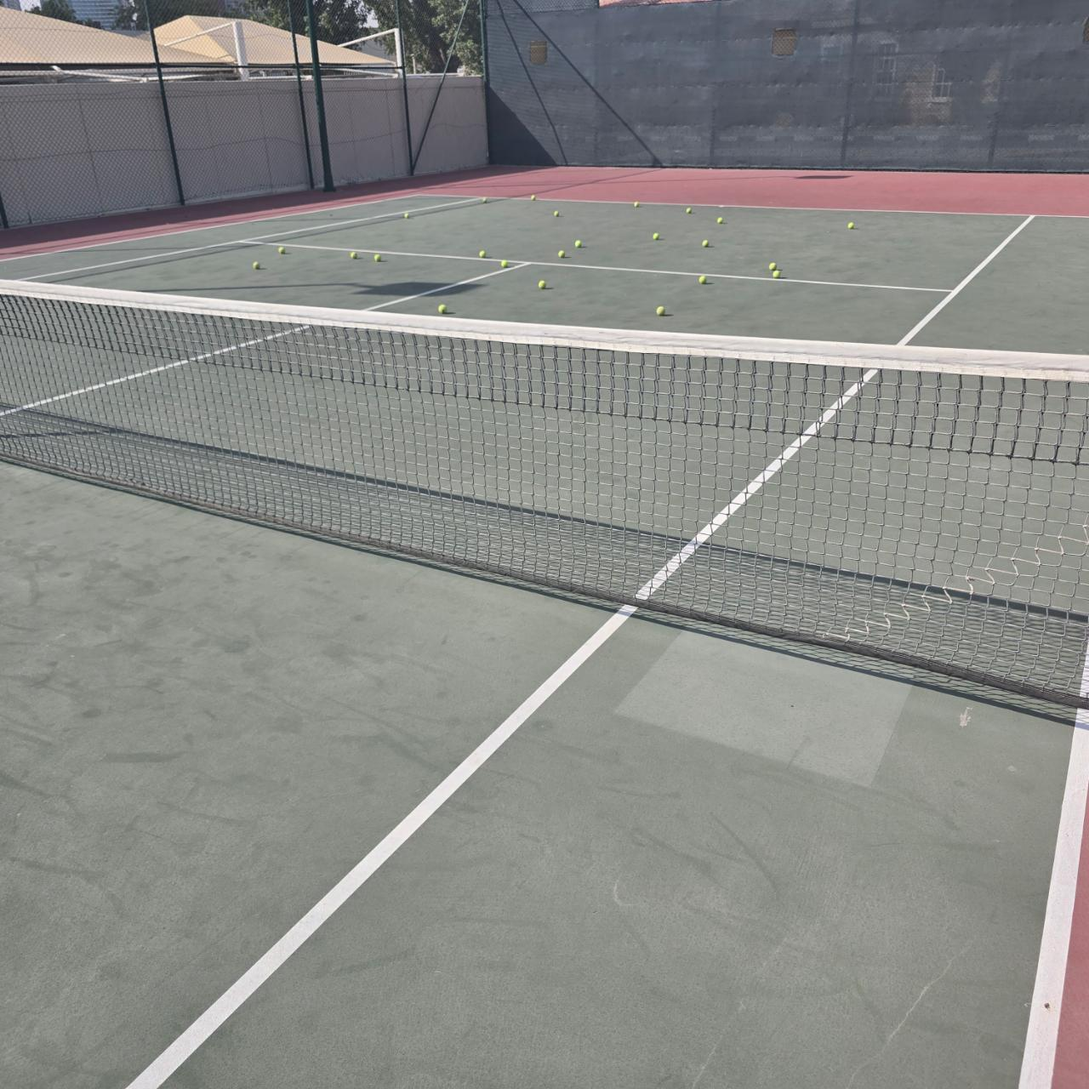tennis-ball: (437, 301, 449, 314), (656, 303, 667, 316), (538, 277, 549, 289), (252, 259, 263, 270), (278, 244, 289, 255), (698, 274, 708, 285), (499, 260, 510, 269), (373, 254, 383, 263), (769, 263, 778, 272), (773, 271, 782, 280), (651, 232, 660, 241), (574, 239, 583, 248), (350, 252, 359, 261), (557, 250, 566, 258), (847, 222, 855, 230), (478, 250, 486, 258), (702, 240, 711, 247), (717, 217, 724, 224), (553, 210, 560, 217), (530, 195, 537, 202), (403, 212, 410, 219), (685, 208, 692, 214), (634, 201, 640, 208), (482, 198, 488, 204)
